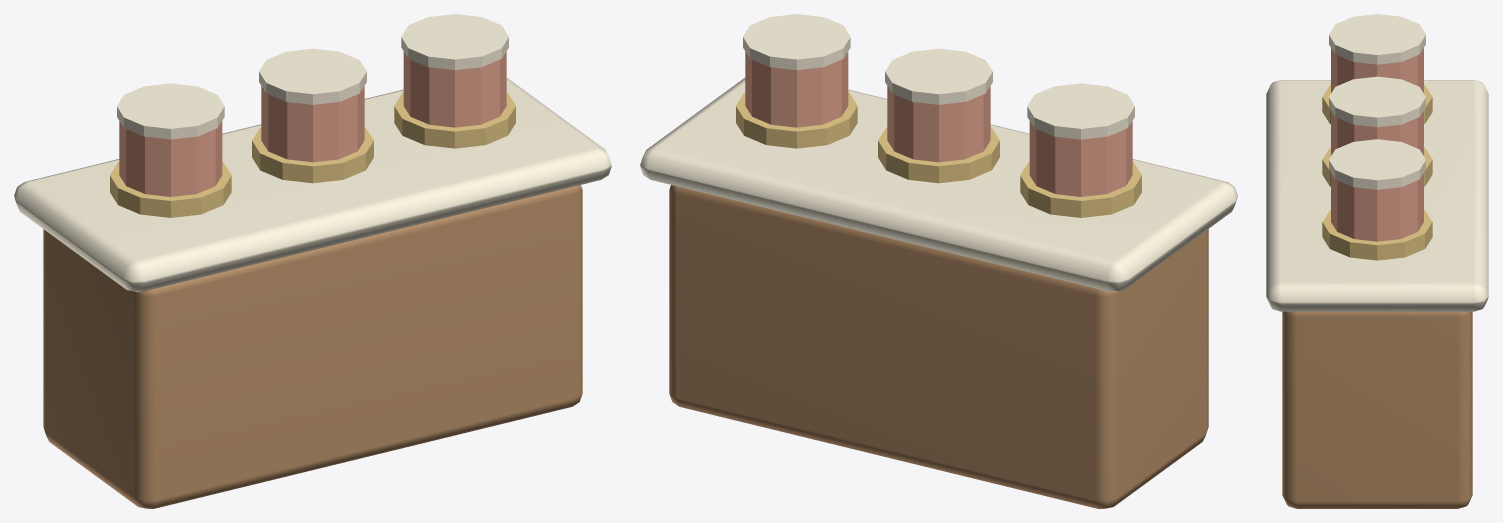
Rendered from dessert-display.glb.
3 renders of one model, left to right at view 1: azimuth 30°, elevation 25°; view 2: azimuth 150°, elevation 25°; view 3: azimuth 270°, elevation 25°, orthographic. The views are drawn at different scales.
Visible parts, largest first — view 1: Fluted counter, Stone top, Cake.001, Cake, Cake.002, Icing, Icing.002, Icing.001, Cake stand.001, Cake stand.002, Cake stand; view 2: Fluted counter, Stone top, Cake.001, Cake, Cake.002, Icing, Icing.002, Icing.001, Cake stand.001, Cake stand.002, Cake stand; view 3: Fluted counter, Stone top, Cake.002, Icing, Icing.002, Icing.001, Cake stand.002, Cake.001, Cake, Cake stand.001, Cake stand.
Boxes of the visible parts, x1,y1,x2,y2 form: Fluted counter: (43, 185, 582, 508); Stone top: (14, 77, 611, 291); Cake.001: (261, 86, 364, 162); Cake: (119, 121, 222, 196); Cake.002: (403, 52, 506, 127); Icing: (117, 83, 224, 139); Icing.002: (401, 14, 508, 70); Icing.001: (259, 48, 366, 104); Cake stand.001: (252, 127, 373, 183); Cake stand.002: (394, 92, 515, 148); Cake stand: (110, 162, 231, 217); Fluted counter: (669, 185, 1208, 508); Stone top: (640, 77, 1237, 291); Cake.001: (887, 86, 990, 162); Cake: (1029, 121, 1132, 196); Cake.002: (745, 52, 848, 127); Icing: (1027, 83, 1134, 139); Icing.002: (743, 14, 850, 70); Icing.001: (885, 48, 992, 104); Cake stand.001: (878, 127, 999, 183); Cake stand.002: (736, 92, 857, 148); Cake stand: (1020, 162, 1141, 217); Fluted counter: (1282, 311, 1472, 508); Stone top: (1266, 80, 1488, 311); Cake.002: (1331, 173, 1423, 241); Icing: (1329, 14, 1425, 64); Icing.002: (1329, 139, 1425, 189); Icing.001: (1329, 76, 1425, 127); Cake stand.002: (1322, 210, 1432, 260); Cake.001: (1331, 110, 1423, 155); Cake: (1331, 48, 1423, 92); Cake stand.001: (1322, 147, 1432, 186); Cake stand: (1322, 85, 1432, 123).
Bounding box in the file's own units: 2.4 × 1.67 × 1.05.
